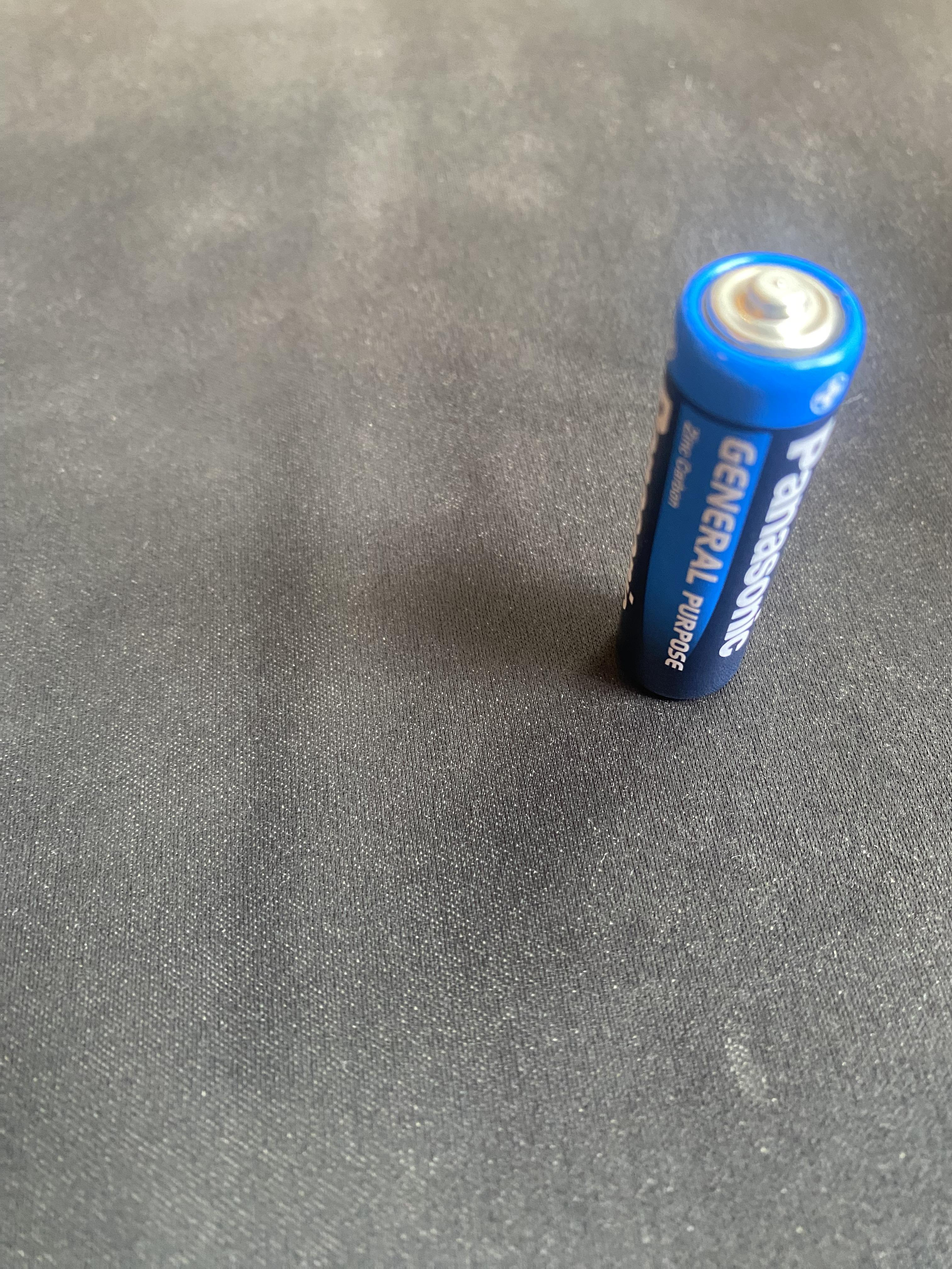AA: (614, 248, 867, 701)
